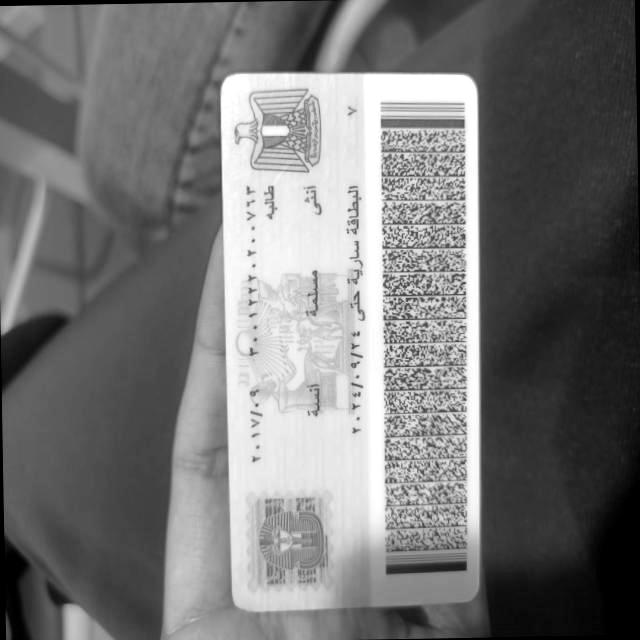id_card: (221, 74, 480, 610)
